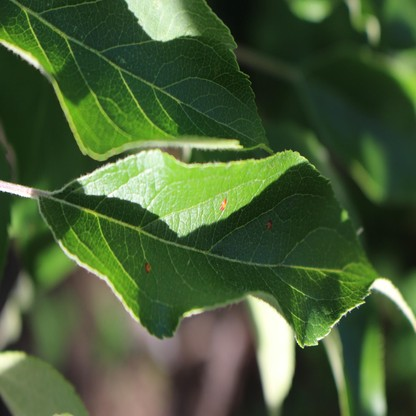rust: (143, 260, 150, 272), (221, 197, 227, 209), (265, 219, 272, 229)
